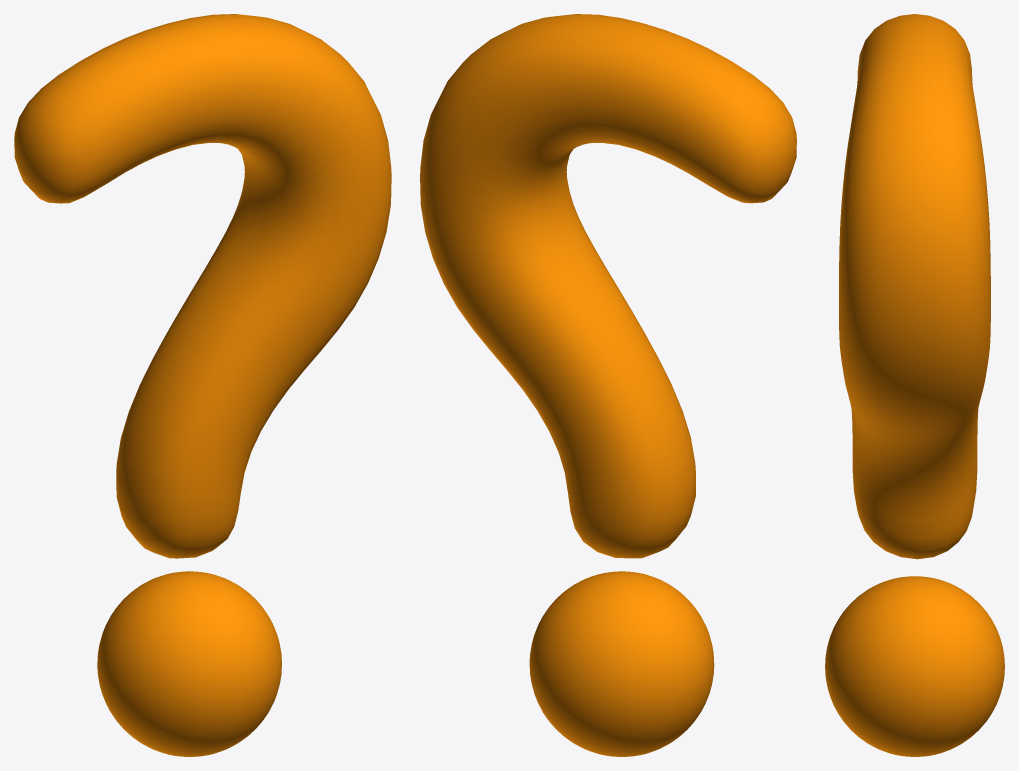
The model's file is question.glb.
3 renders of one model, left to right at view 1: azimuth 30°, elevation 25°; view 2: azimuth 150°, elevation 25°; view 3: azimuth 270°, elevation 25°, orthographic. The views are drawn at different scales.
Parts seen in each view (by area): view 1: Object_2; view 2: Object_2; view 3: Object_2.
Boxes of the visible parts, x1,y1,x2,y2 form: Object_2: (14, 14, 391, 756); Object_2: (420, 14, 796, 756); Object_2: (825, 14, 1004, 756).
Size of the model in its own units: 0.2507 by 0.4893 by 0.1135.
